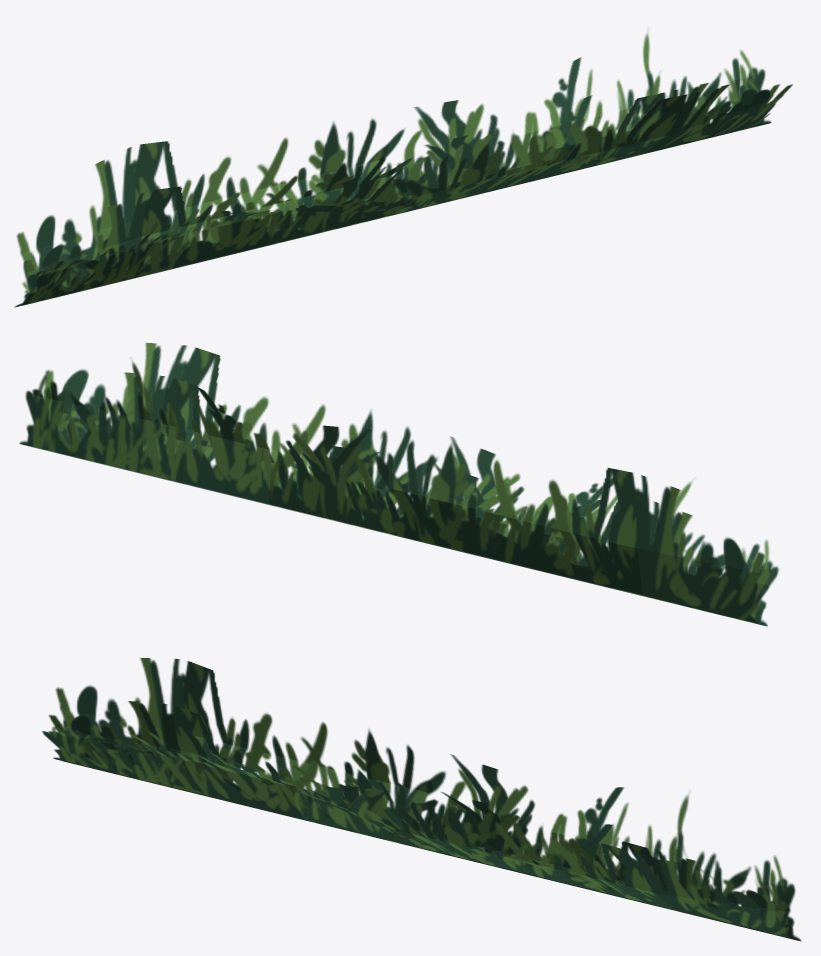
Rendered from Grass_Line_1.glb.
3 renders of one model, top to bottom at view 1: azimuth 30°, elevation 25°; view 2: azimuth 150°, elevation 25°; view 3: azimuth 330°, elevation 25°, orthographic.
Parts seen in each view (by area): view 1: Grass_Line_1; view 2: Grass_Line_1; view 3: Grass_Line_1.
Boxes of the visible parts, x1,y1,x2,y2 form: Grass_Line_1: [14, 32, 792, 307]; Grass_Line_1: [19, 342, 778, 626]; Grass_Line_1: [42, 657, 801, 941].
Bounding box in the file's own units: 2 × 0.323 × 0.2451.
1 material, 1 textured.
